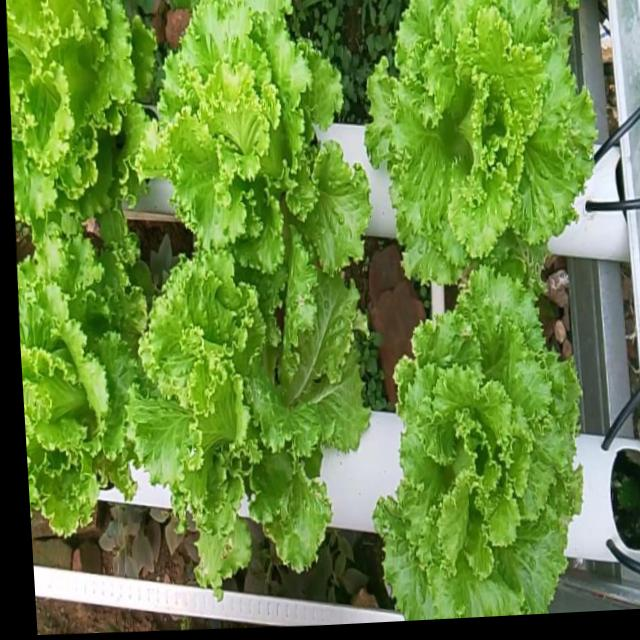Mature: (118, 266, 360, 600), (364, 269, 572, 622), (135, 0, 360, 306), (354, 0, 584, 292), (17, 249, 134, 553), (6, 0, 143, 254)
